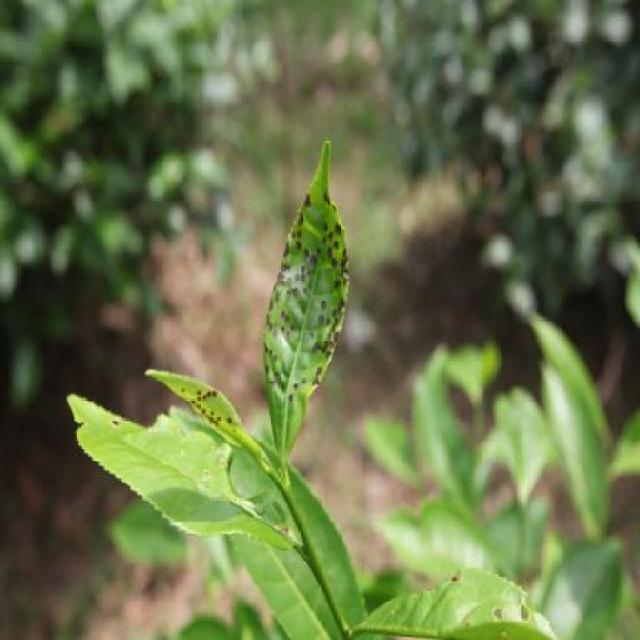Tea Mosquito bug infested leaf: (255, 120, 374, 489), (154, 336, 261, 432)
